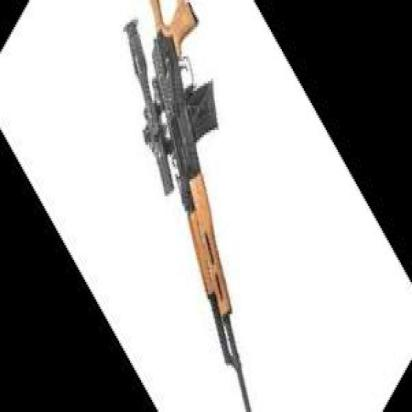Gun: (123, 0, 253, 412)
